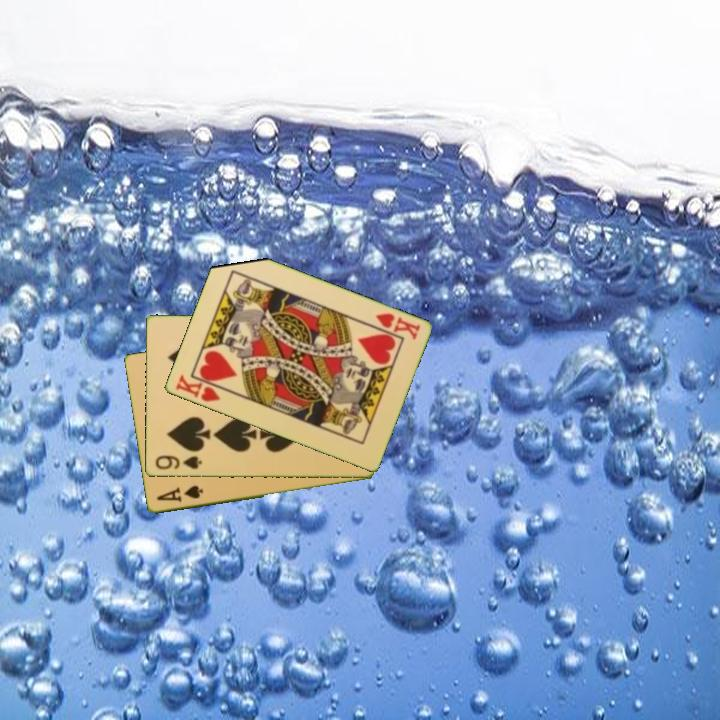9s: (152, 452, 204, 473)
As: (153, 482, 206, 505)
Kh: (172, 371, 229, 405), (372, 309, 423, 343)
